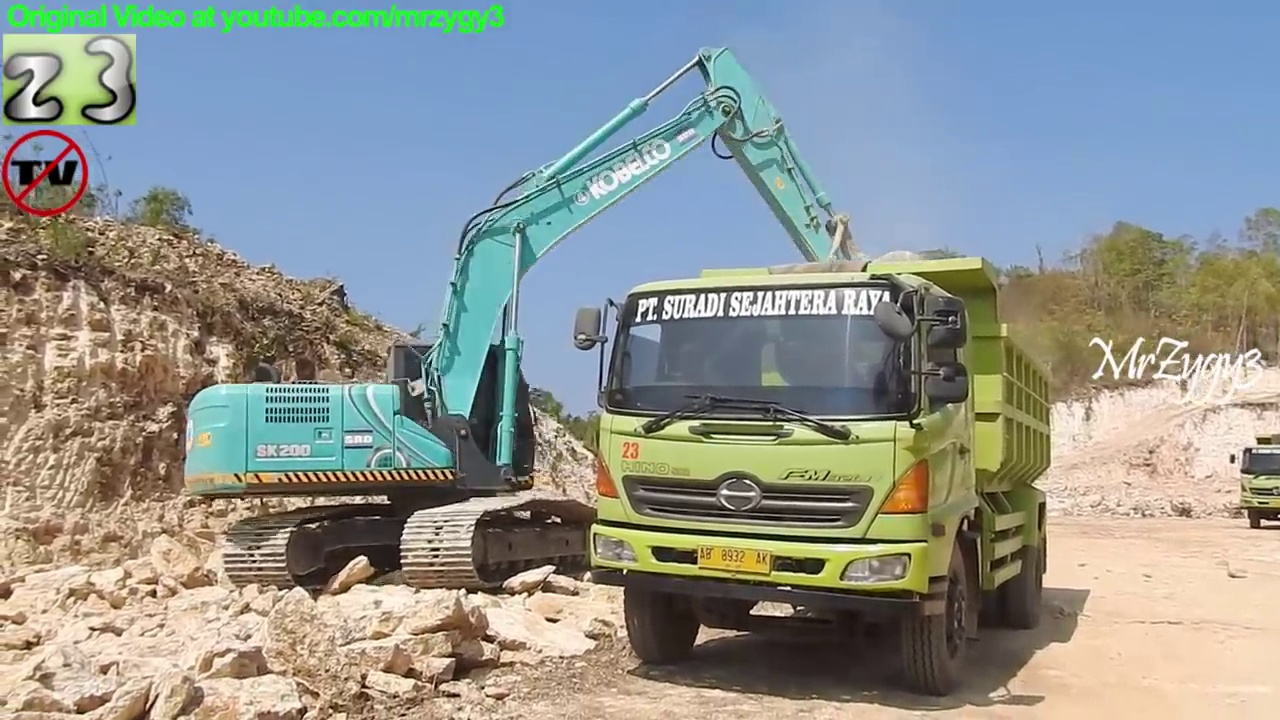excavator: (174, 40, 991, 606)
truck: (565, 248, 1061, 702), (1226, 426, 1280, 535)
